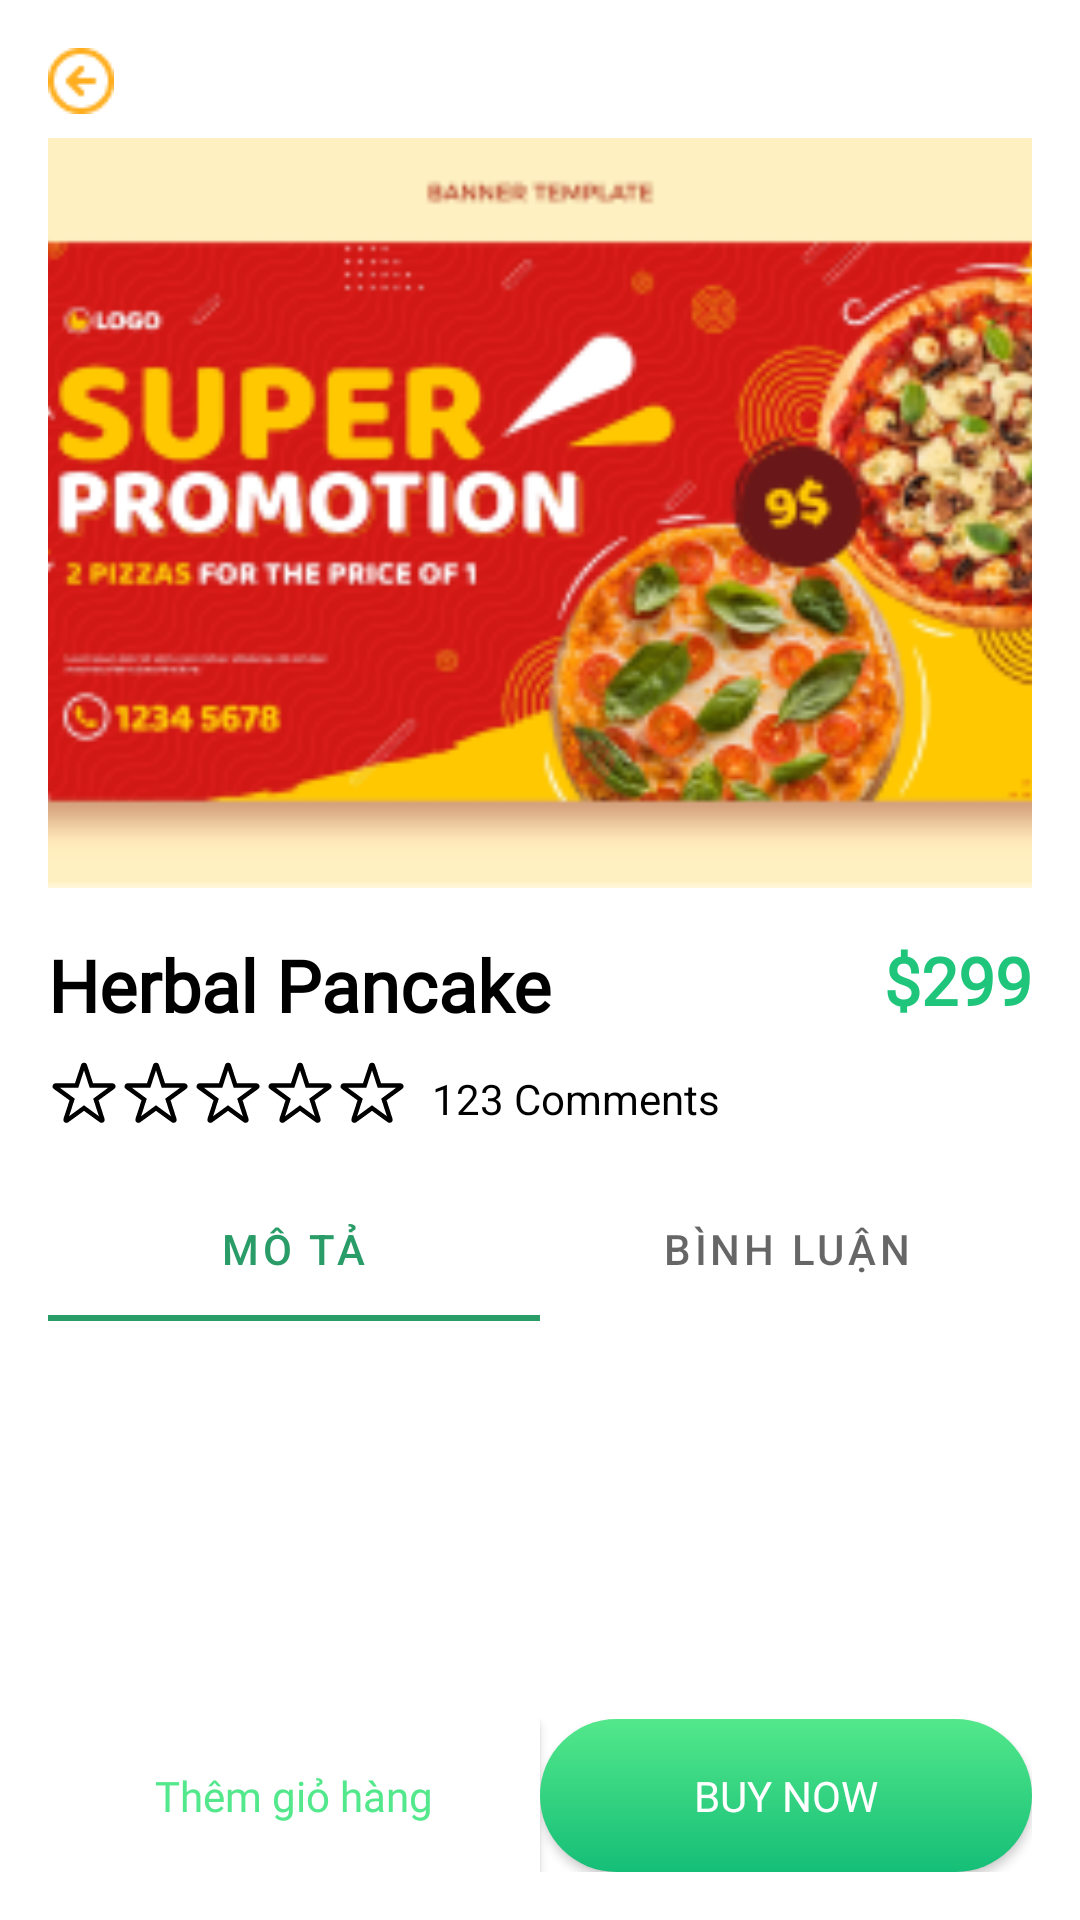

Where to tap for icons on this 1080px×1920px app screen, as (x=x, y=y):
arrowleft: (x=81, y=81)
star: (x=84, y=1092), (x=156, y=1092), (x=228, y=1092), (x=300, y=1092), (x=372, y=1092)
